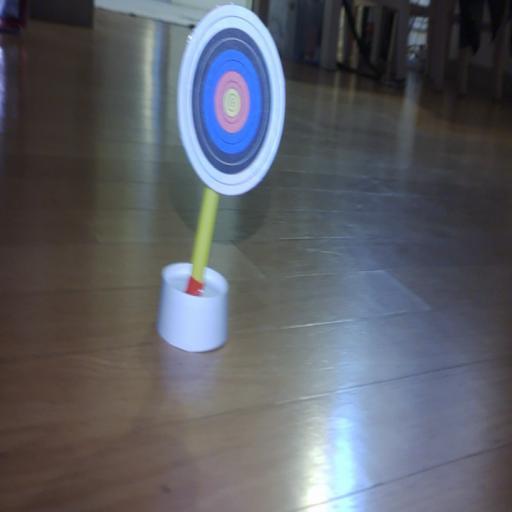target: (178, 4, 284, 194)
